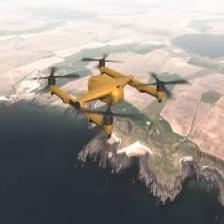drone: (31, 51, 184, 138)
